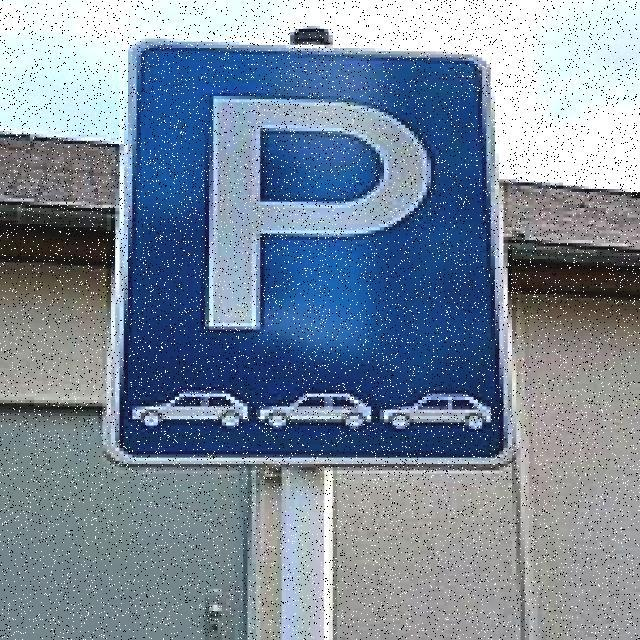Traffic sign: (98, 31, 526, 479)
